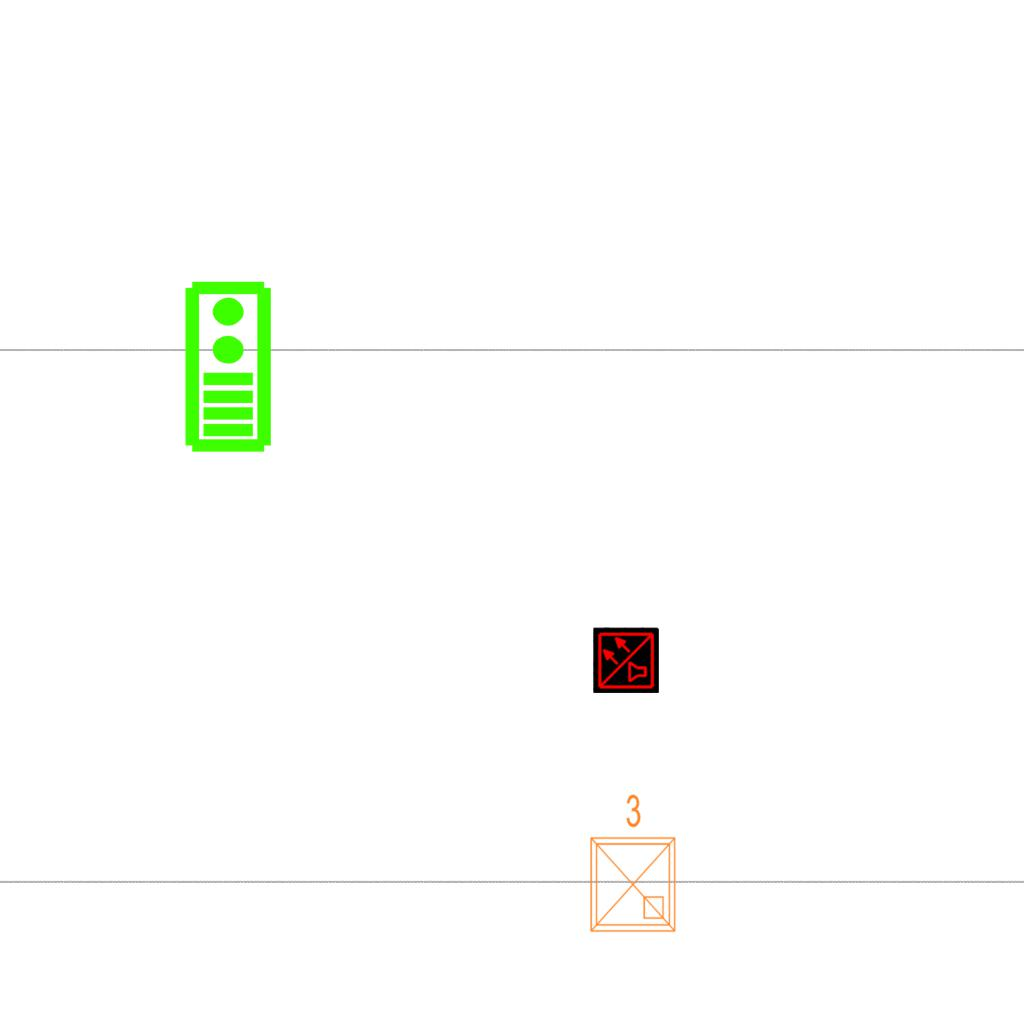Einbaudownlights_LED_Konferenzraeume: (579, 789, 683, 939)
Gegensprechanlage_mit_Video: (179, 278, 274, 454)
OKW_Multisensormelder_(Kombination_optischer_Rauch-Kahlenmonoxid_Waerme-Melder): (593, 627, 659, 693)
